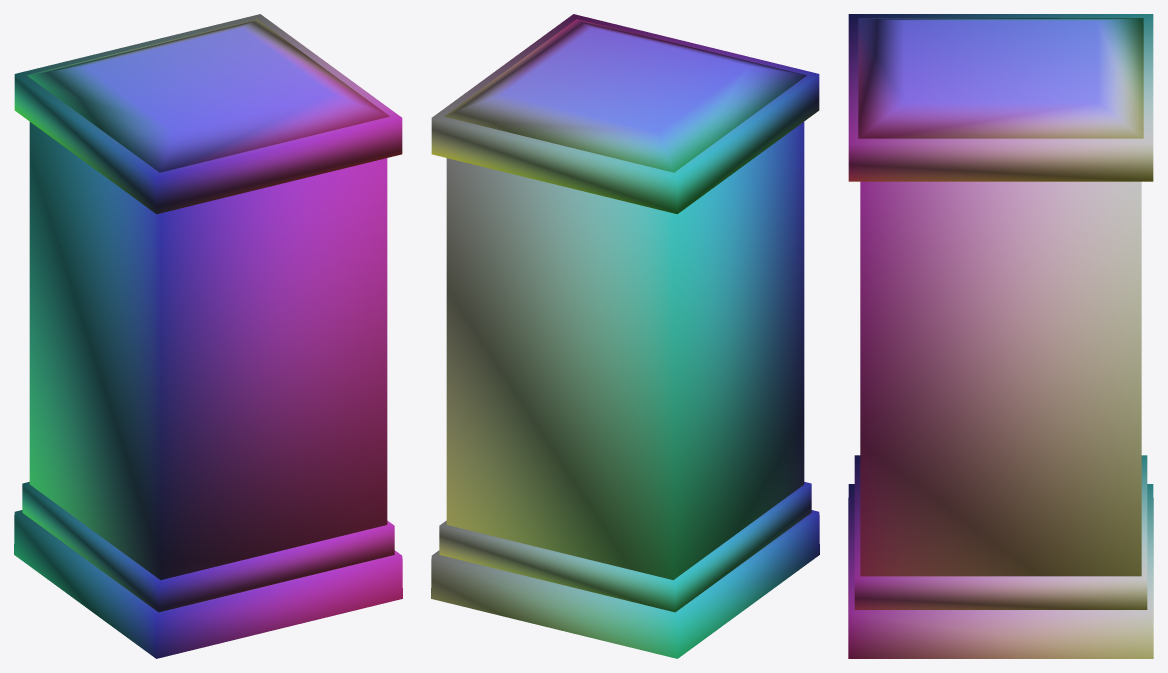
File: SM_Pit_WallPier_LOD1.fbx
3 views of the same model, side by side, from view 1: azimuth 30°, elevation 25°; view 2: azimuth 150°, elevation 25°; view 3: azimuth 270°, elevation 25° (orthographic). The views are drawn at different scales.
Visible parts, largest first — view 1: SM_Pit_WallPier_LOD1; view 2: SM_Pit_WallPier_LOD1; view 3: SM_Pit_WallPier_LOD1.
Part boxes in pixels (x1,y1,x2,y2): SM_Pit_WallPier_LOD1: (14,14,402,658); SM_Pit_WallPier_LOD1: (431,14,819,658); SM_Pit_WallPier_LOD1: (848,14,1153,658).
Bounding box in the file's own units: 1.24 × 2.39 × 1.24.
